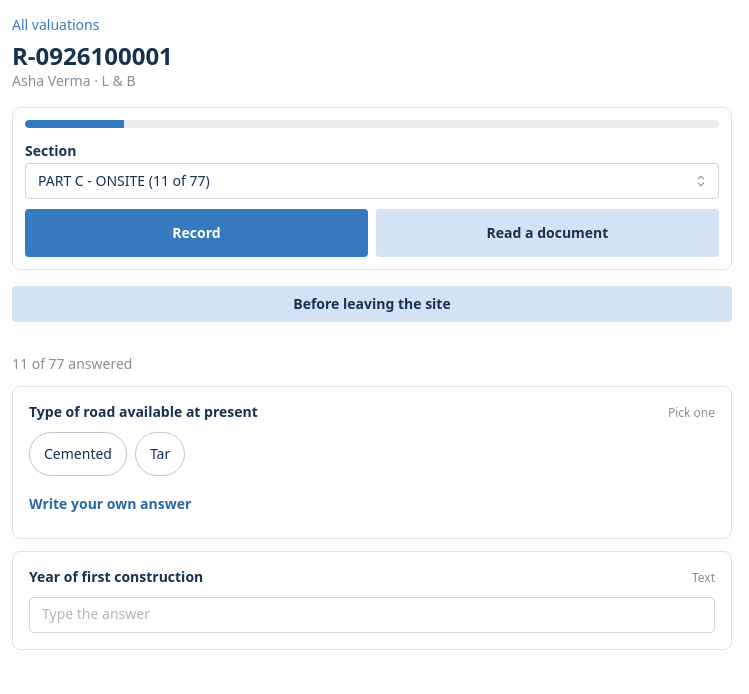
the phone form › saves an option the moment it is tapped
Click the button "Cemented" at (78, 454), box [29,432,127,476]
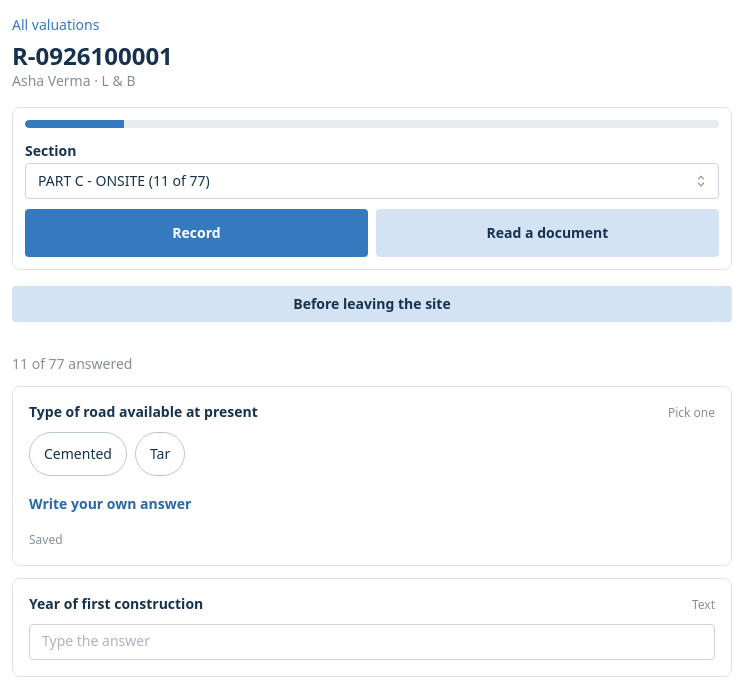
expect the text "Saved" is shown: met, box [29,531,63,548]
